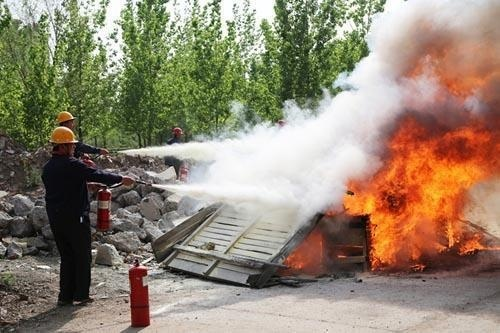fire: (334, 21, 500, 271), (283, 226, 326, 271)
